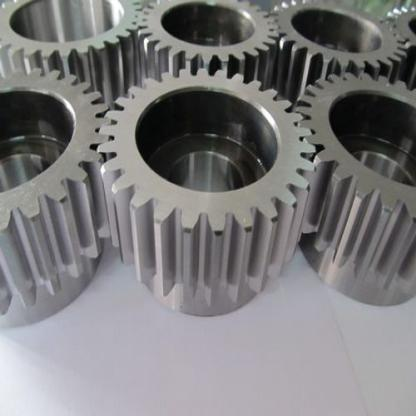FOD: (96, 67, 316, 322), (292, 66, 415, 310), (0, 64, 110, 334), (273, 0, 408, 91), (0, 0, 143, 81), (136, 0, 276, 82)
